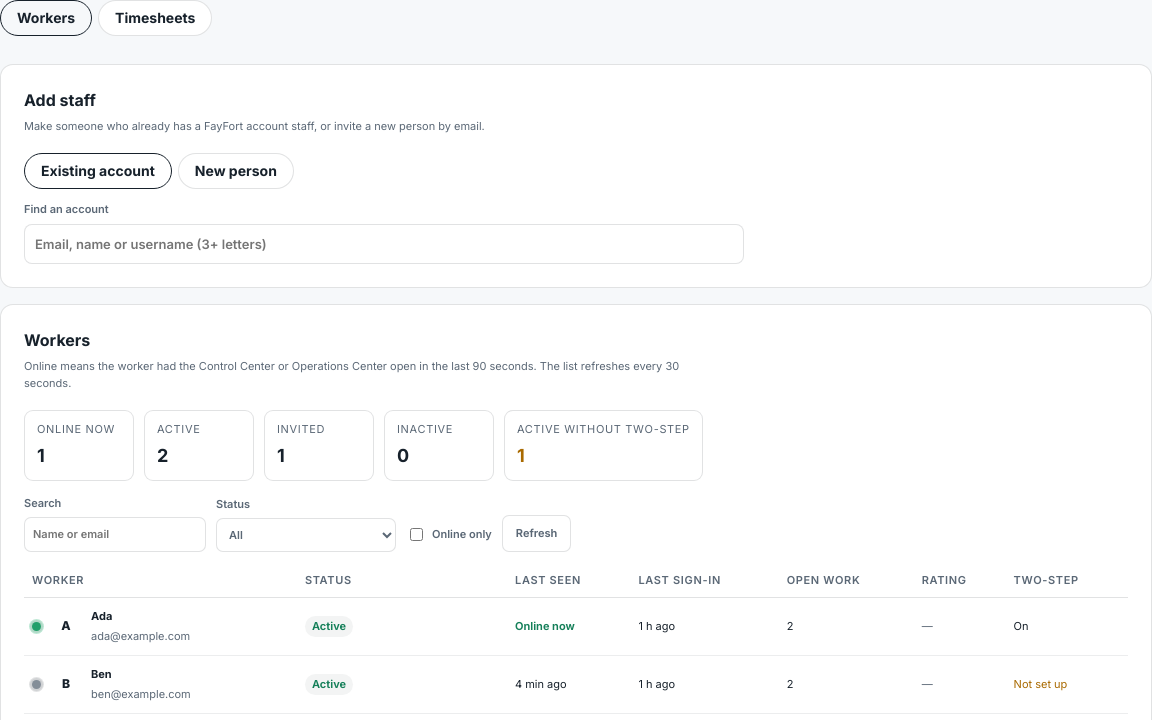
Test: worker directory › filters by search, status and online
The width and height of the screenshot is (1152, 720).
Step 1. Type "ben" into the search field labelled "Search" → (115, 534), box [24,517,206,552]
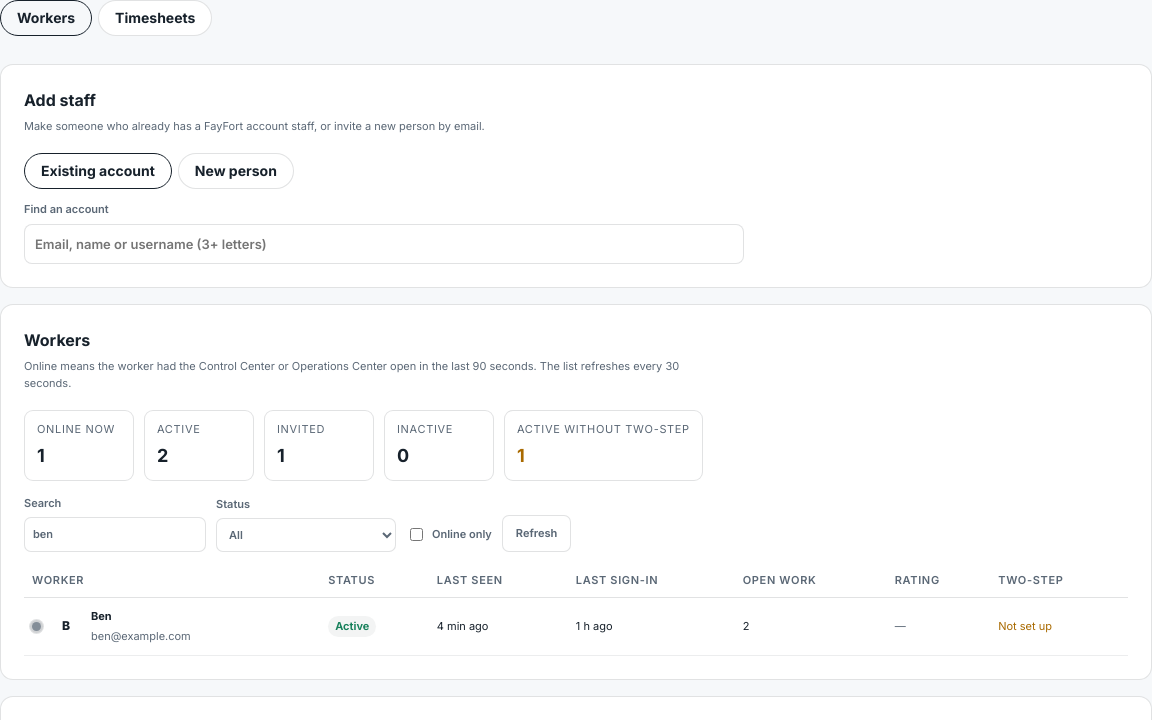
Now the number of rows is 2, box [24,564,1128,597]; [24,597,1128,656]
Step 2. Clear the search field labelled "Search" → (115, 534), box [24,517,206,552]
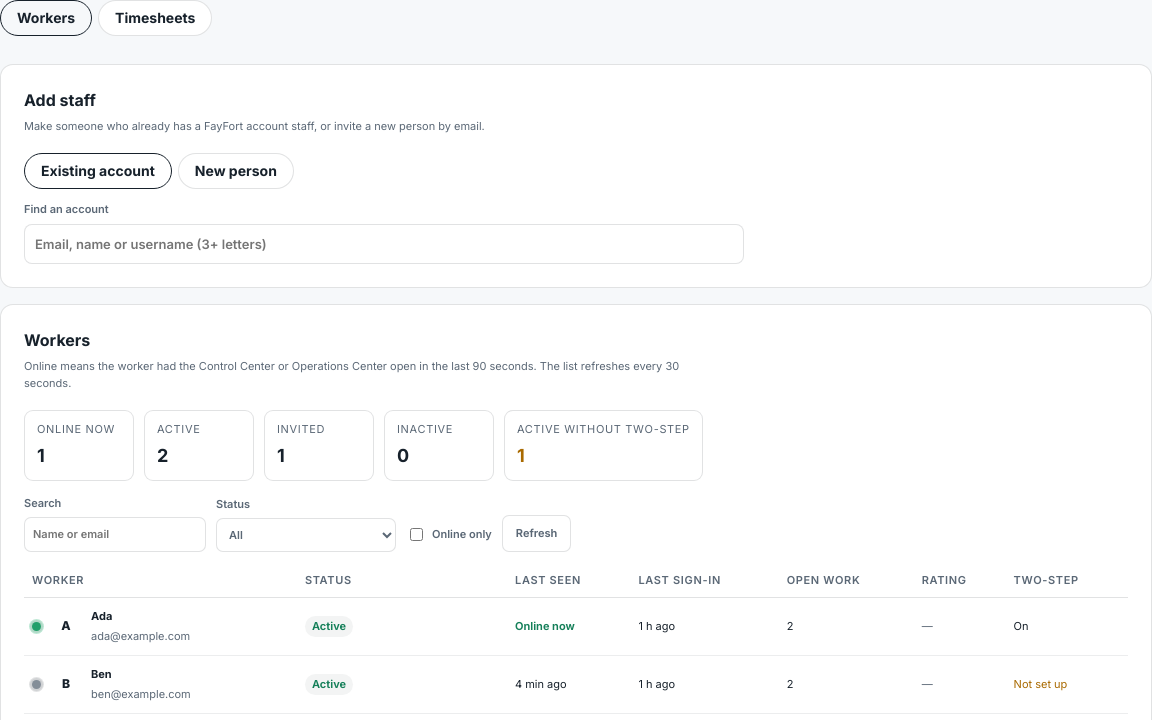
Step 3. Select "Invited" in the dropdown labelled "Status" → (306, 535), box [216,518,396,552]
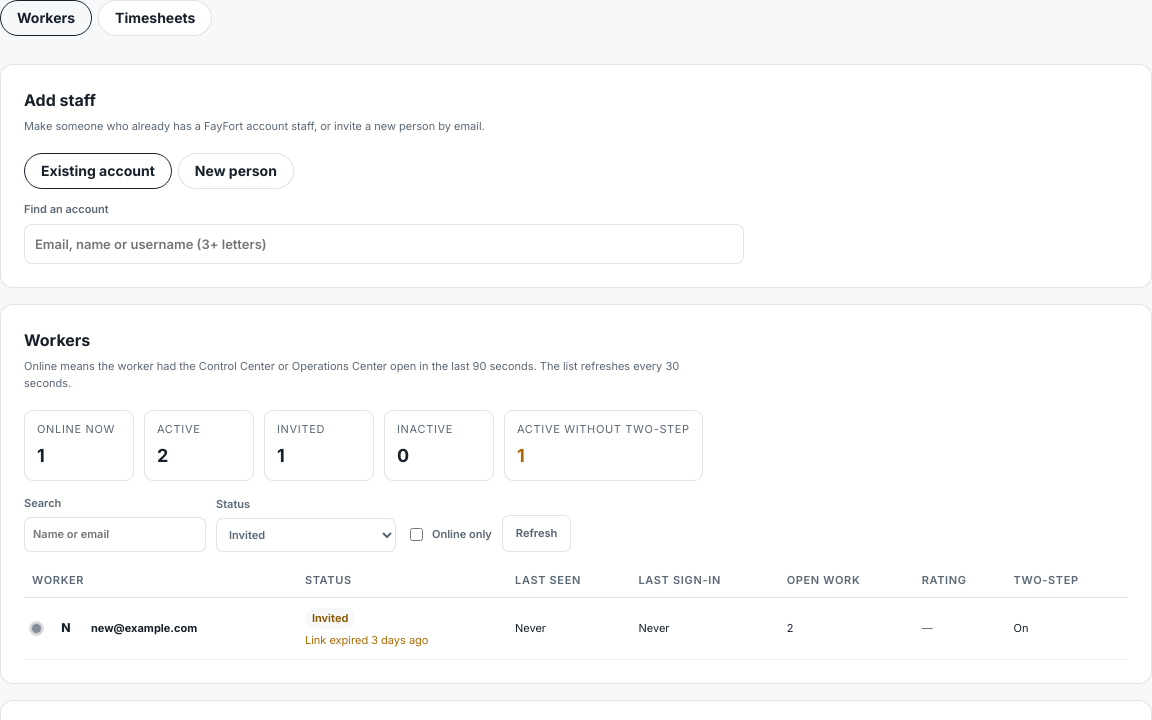
Now the text "new@example.com" is shown, box [91,620,197,637]
Step 4. Select "All" in the dropdown labelled "Status" → (306, 535), box [216,518,396,552]
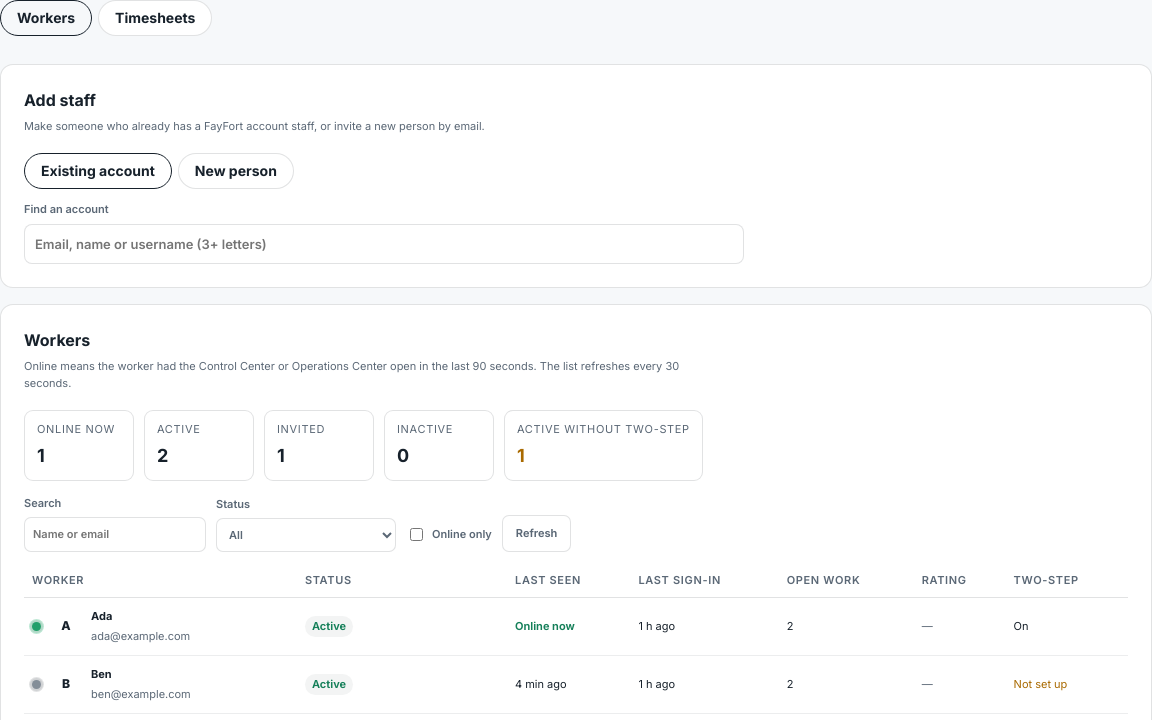
Step 5. Click the checkbox labelled "Online only" → click(416, 534), box [410,528,423,541]
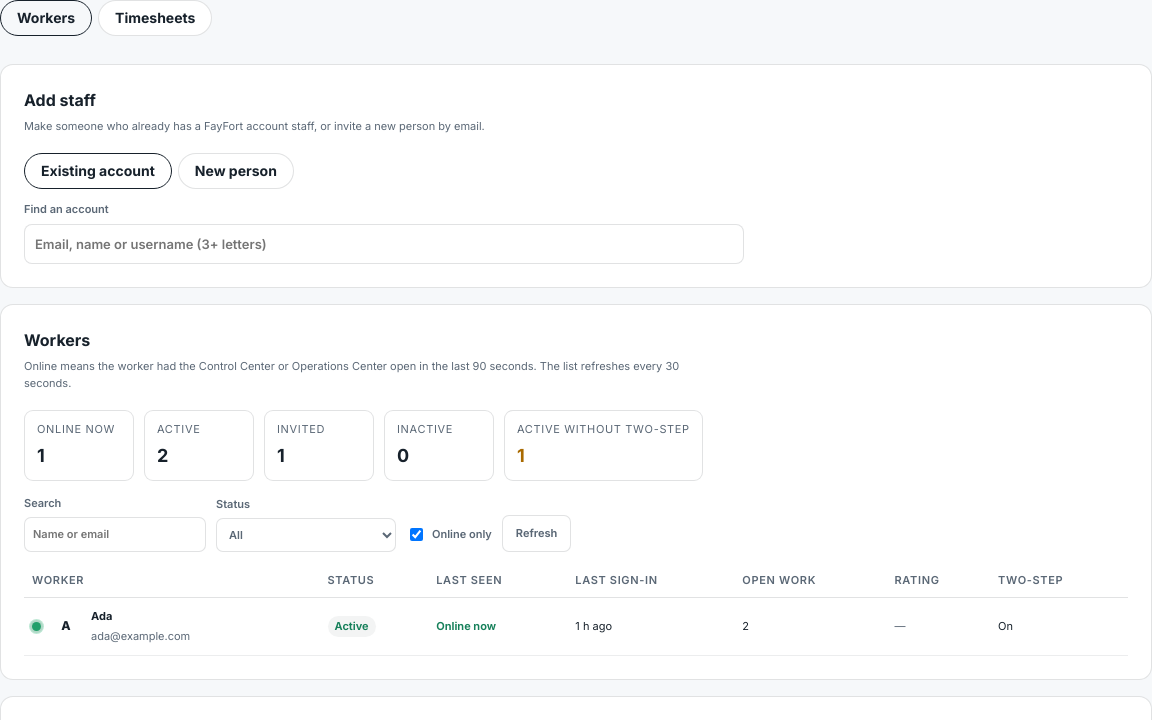
Now the number of rows is 2, box [24,564,1128,597]; [24,597,1128,656]
